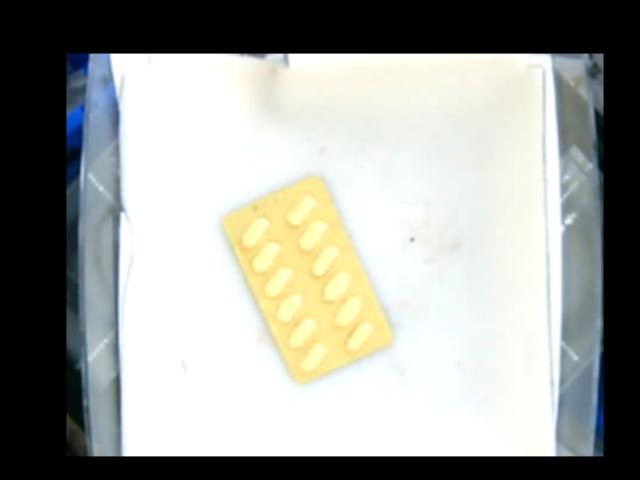Medicine: (223, 175, 390, 385)
